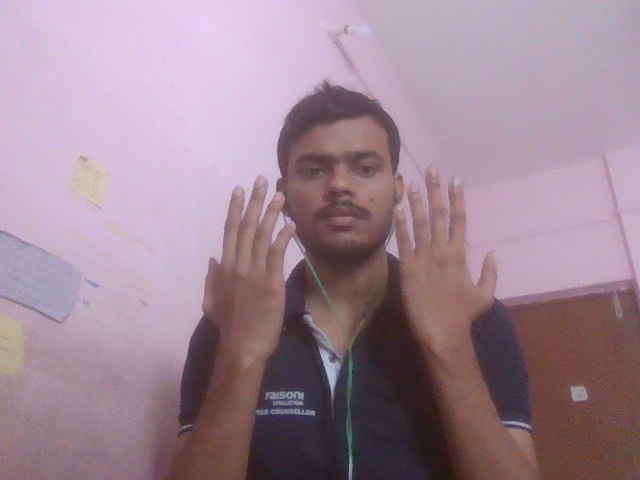allDone: (156, 169, 543, 342)
